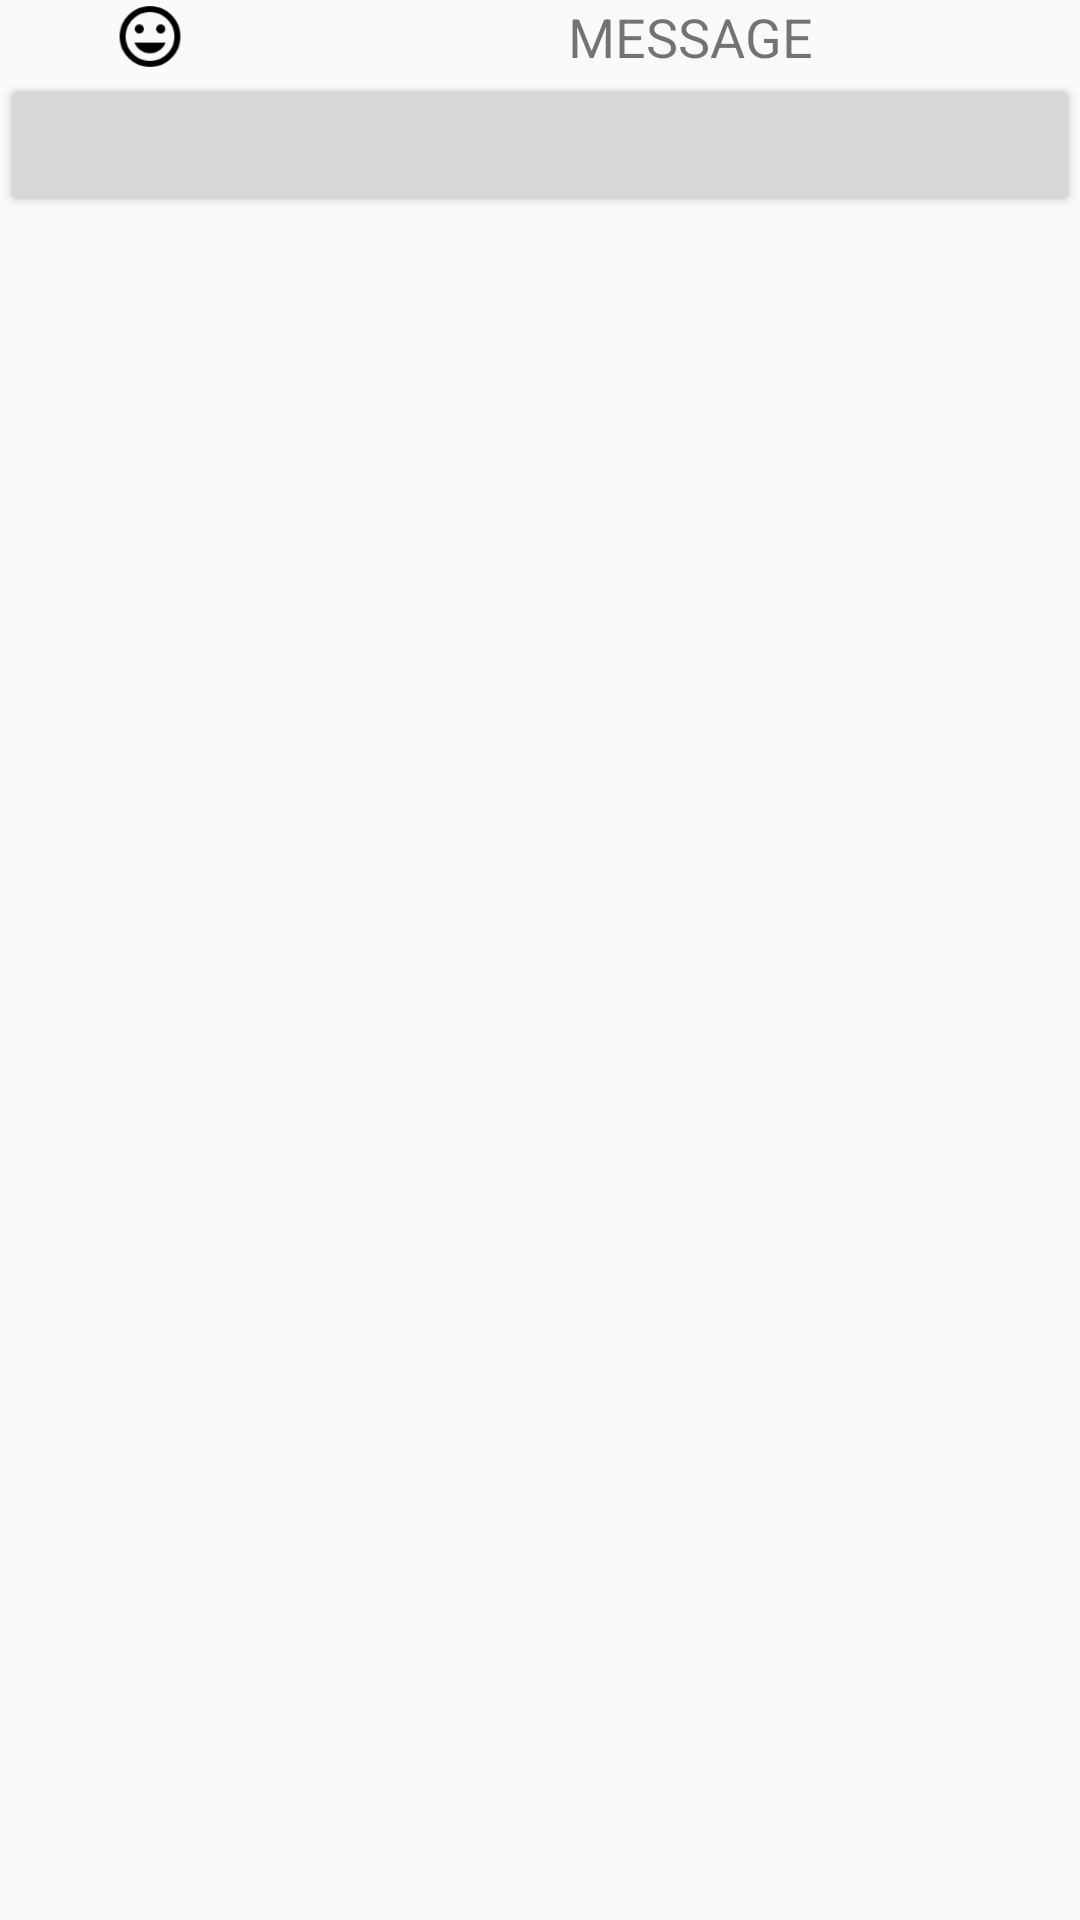

Icon bounding boxes for this 1080x1920 phone screenshot, format (x1, y1, x2, y2):
mood: (119, 6, 181, 67)
